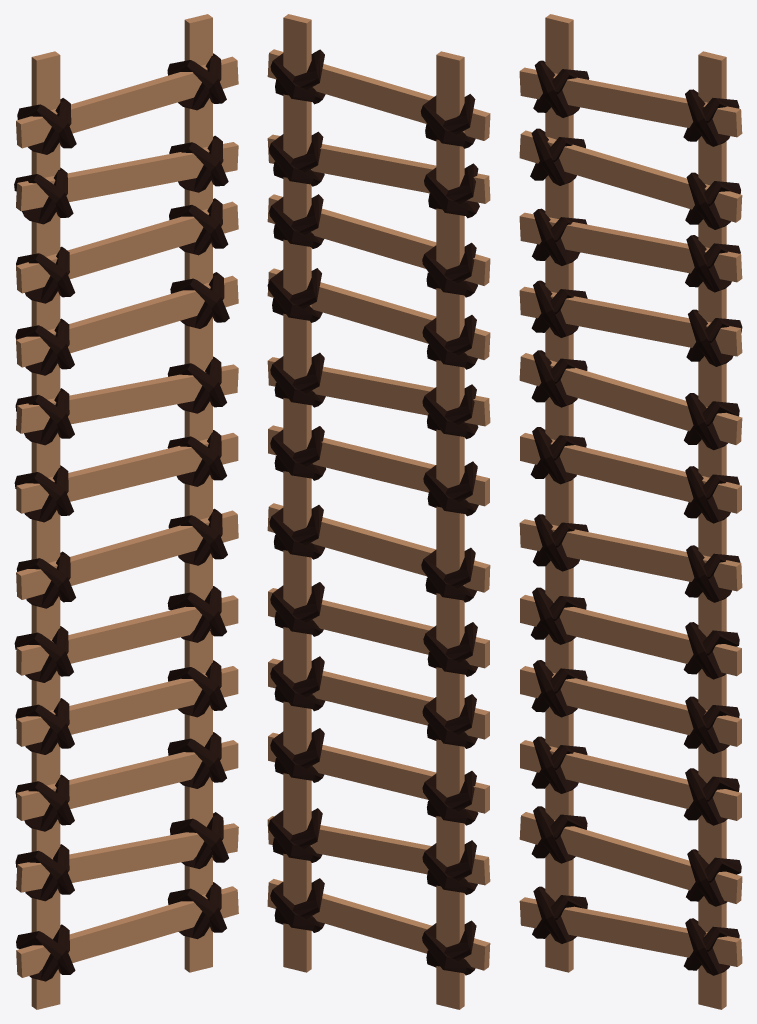
The model's file is ladder.fbx.
3 renders of one model, left to right at view 1: azimuth 30°, elevation 25°; view 2: azimuth 150°, elevation 25°; view 3: azimuth 330°, elevation 25°, orthographic.
Visible parts, largest first — view 1: ladder; view 2: ladder; view 3: ladder.
Boxes of the visible parts, x1,y1,x2,y2 form: ladder: (14,14,238,1009); ladder: (267,14,490,1009); ladder: (519,14,742,1009).
Bounding box in the file's own units: 117 × 488 × 23.81.
